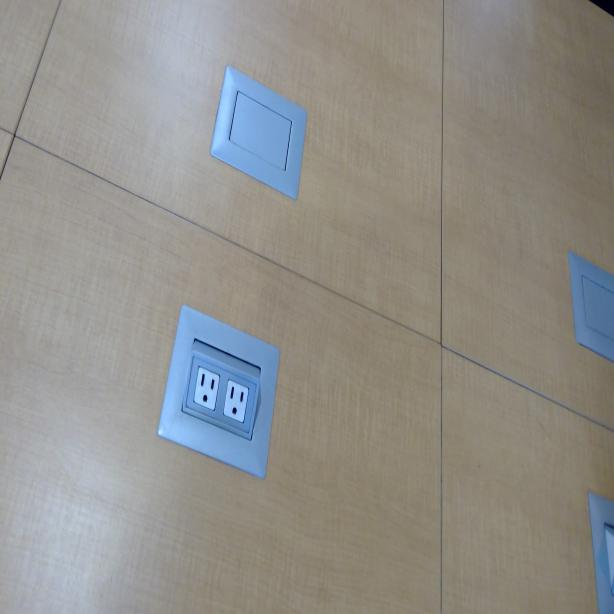typeb: (195, 365, 218, 410), (225, 380, 245, 423)
